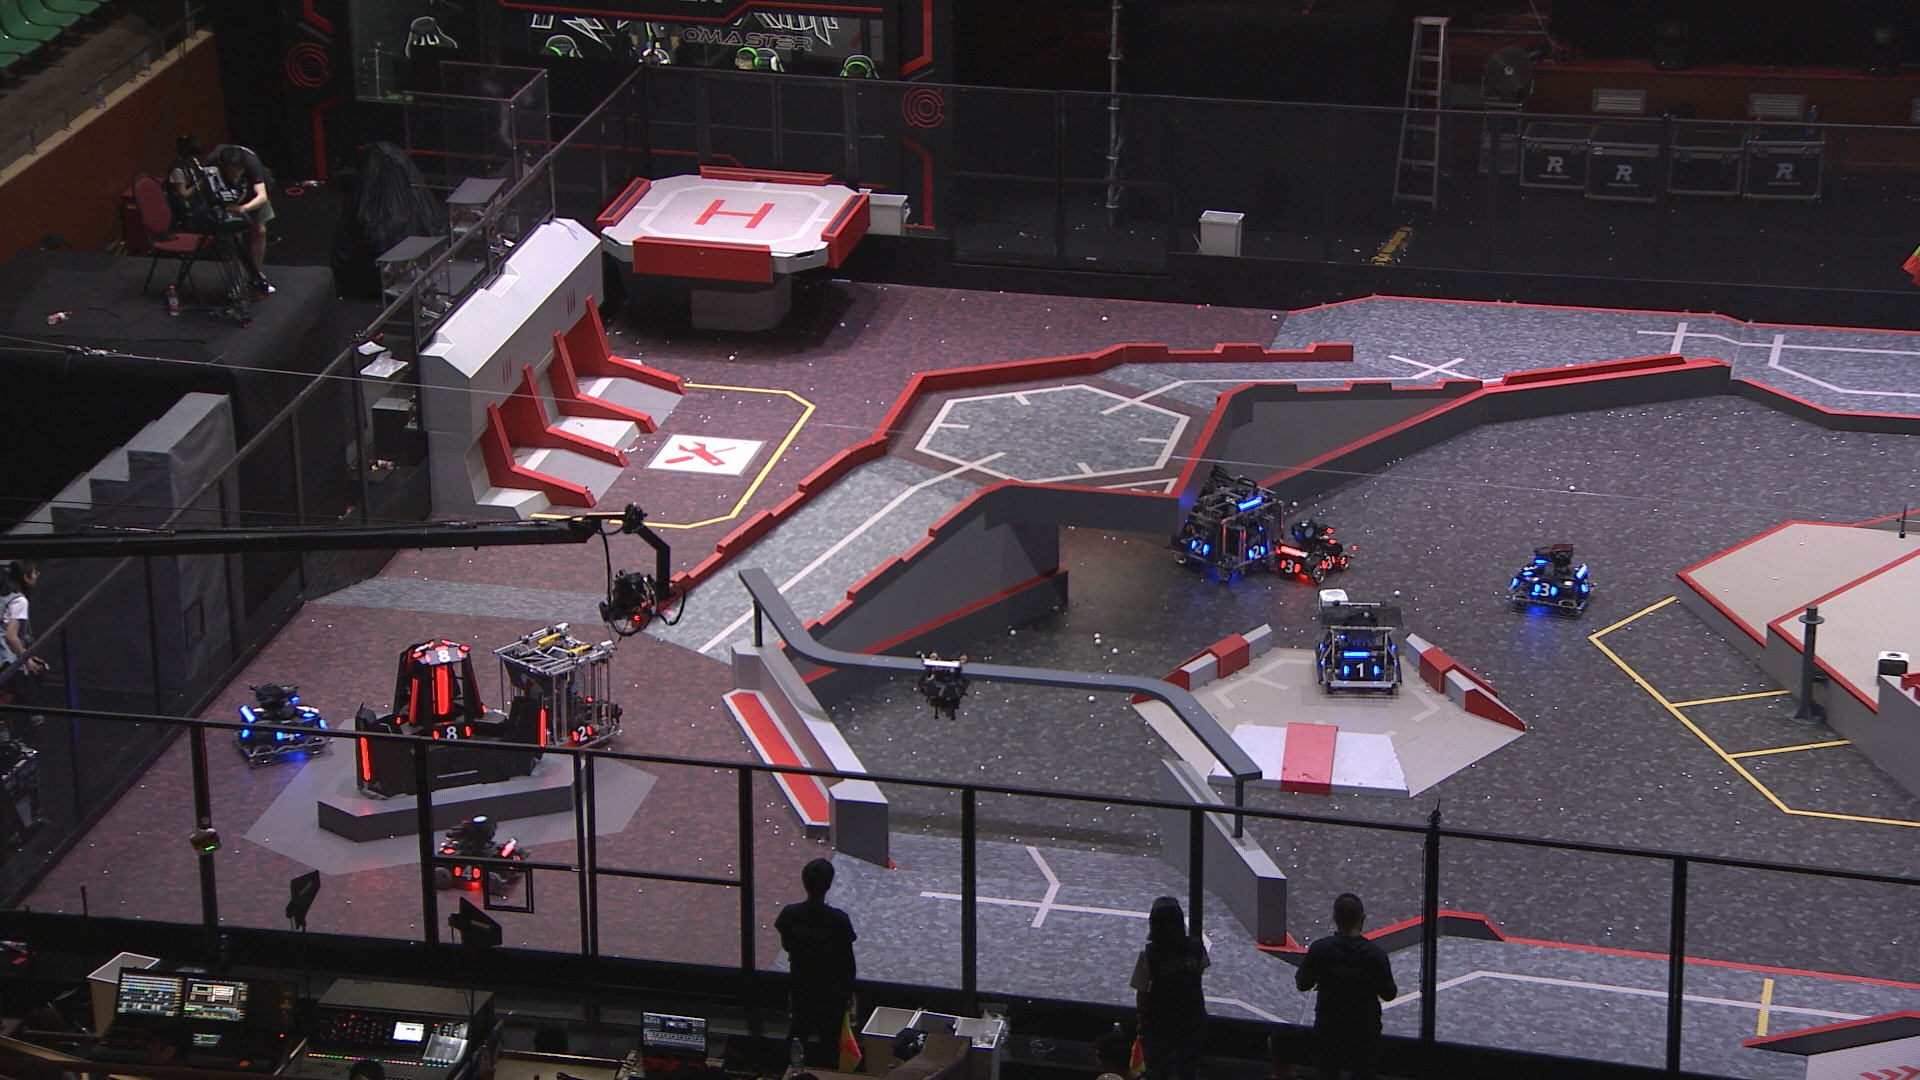armor: (429, 662, 451, 713), (1340, 662, 1379, 683), (427, 725, 473, 742), (425, 647, 465, 662), (406, 678, 419, 723), (359, 737, 372, 781), (452, 864, 483, 882), (570, 725, 597, 745), (1531, 582, 1557, 600), (537, 708, 549, 749), (1278, 556, 1302, 576), (926, 683, 957, 698), (410, 641, 433, 659), (1313, 647, 1329, 669), (1245, 545, 1266, 560), (1189, 541, 1211, 556), (295, 703, 316, 719), (1319, 555, 1338, 571), (1519, 564, 1542, 578), (505, 855, 524, 870), (277, 731, 305, 741), (1315, 533, 1337, 545), (1580, 579, 1590, 595)
base: (352, 636, 551, 798)
car: (491, 624, 622, 761), (1168, 465, 1284, 579), (1305, 603, 1408, 695), (425, 814, 527, 894), (231, 680, 328, 765), (1505, 541, 1600, 618), (1269, 520, 1348, 588)
watcher: (916, 654, 975, 719)
